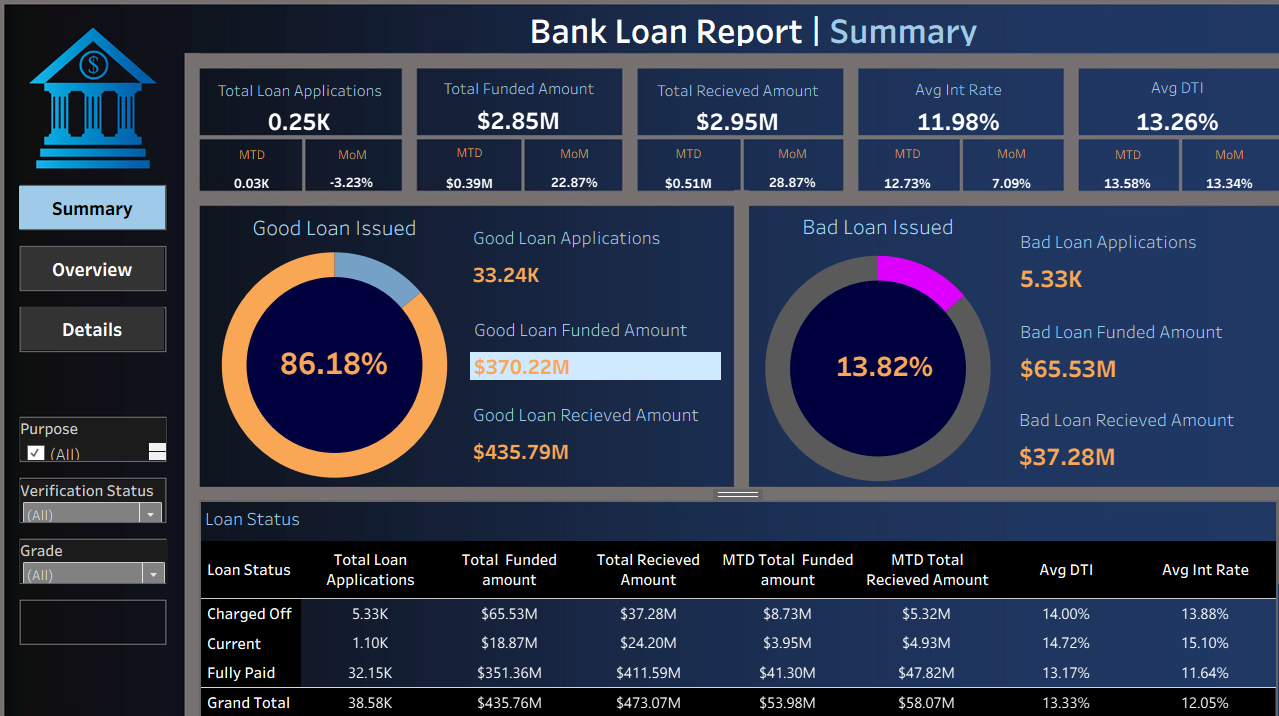

Layout of this report page (visuals, bound fields, positions):
{"tool":"tableau","page":{"name":"Summary","canvas":[1300,750],"ordinal":2},"visuals":[{"type":"image","param":"C:/Users/vaish/Downloads/details.jpg","box":[1,1,1295,740]},{"type":"text","box":[531,23,457,32]},{"type":"worksheet","title":"Avg DTI","mark":"Automatic","box":[1089,82,187,61]},{"type":"worksheet","title":"Total Funded Amount","mark":"Automatic","box":[426,83,196,56]},{"type":"worksheet","title":"Avg Int Rate","mark":"Automatic","box":[867,84,193,57]},{"type":"worksheet","title":"Total Loan Applications","mark":"Automatic","box":[209,85,192,55]},{"type":"worksheet","title":"Total Recieved Amount","mark":"Automatic","box":[646,85,194,54]},{"type":"worksheet","title":"MTD Total Funded Amount","mark":"Automatic","box":[424,149,101,55]},{"type":"worksheet","title":"MoM Total Funded Amount","mark":"Automatic","box":[532,150,95,50]},{"type":"worksheet","title":"MTD Total Recieved Amount","mark":"Automatic","box":[645,150,97,53]},{"type":"worksheet","title":"MoM Total Recieved Amount","mark":"Automatic","box":[750,150,95,50]},{"type":"worksheet","title":"MTD Avg Int Rate","mark":"Automatic","box":[864,150,97,53]},{"type":"worksheet","title":"MoM Avg Int Rate","mark":"Automatic","box":[968,150,97,53]},{"type":"worksheet","title":"MTD Total Loan Applications","mark":"Automatic","box":[211,151,92,47]},{"type":"worksheet","title":"MoM Total Loan Applications","mark":"Automatic","box":[313,151,89,49]},{"type":"worksheet","title":"MTD Avg DTI","mark":"Automatic","box":[1085,151,96,51]},{"type":"worksheet","title":"MoM Avg DTI","mark":"Automatic","box":[1187,151,95,51]},{"type":"dashboard-object","box":[24,195,146,43]},{"type":"worksheet","title":"Bad Loan Issued (2)","mark":"Pie","rows":["Calculation_0896421964423200","Calculation_0896421964234783"],"box":[745,217,276,278]},{"type":"worksheet","title":"Good Loan Issued","mark":"Pie","rows":["Calculation_0896421964423200","Calculation_0896421964234783"],"box":[209,218,261,269]},{"type":"worksheet","title":"Good Loan Applications","mark":"Automatic","box":[470,226,260,75]},{"type":"worksheet","title":"Bad Loan Applications ","mark":"Automatic","box":[1017,230,260,75]},{"type":"dashboard-object","box":[26,256,143,43]},{"type":"dashboard-object","box":[26,316,143,43]},{"type":"worksheet","title":"Good Loan Funded Amount","mark":"Automatic","box":[471,318,260,75]},{"type":"worksheet","title":"Bad Loan Funded Amount ","mark":"Automatic","box":[1017,320,260,75]},{"type":"worksheet","title":"Good Loan %","mark":"Automatic","box":[270,321,139,101]},{"type":"worksheet","title":"Bad Loan %","mark":"Automatic","box":[815,328,149,93]},{"type":"worksheet","title":"Good Loan Recieved Amount","mark":"Automatic","box":[470,403,260,75]},{"type":"worksheet","title":"Bad Loan Recieved Amount","mark":"Automatic","box":[1016,408,260,75]},{"type":"filter","title":"Good Loan Issued","param":"[federated.0fep2cb1dnu4fs19yudhn12il3j9].[none:purpose:nk]","box":[25,427,146,42]},{"type":"filter","title":"Good Loan Issued","param":"[federated.0fep2cb1dnu4fs19yudhn12il3j9].[none:verification_status:nk]","box":[25,489,145,42]},{"type":"worksheet","title":"Loan Status","mark":"Automatic","rows":["loan_status"],"box":[206,511,1075,216]},{"type":"filter","title":"Good Loan Issued","param":"[federated.0fep2cb1dnu4fs19yudhn12il3j9].[none:grade:nk]","box":[25,549,148,43]}]}

Visuals, with their boxes on the page's 1300x750 design canvas (x1, y1, x2, y2). These are canvas units, not pixel positions in the 1279x716 screenshot, which may show the page scaled, cropped or inside an application window:
image: bbox=(1, 1, 1296, 741)
text: bbox=(531, 23, 988, 55)
"Avg DTI" worksheet: bbox=(1089, 82, 1276, 143)
"Total Funded Amount" worksheet: bbox=(426, 83, 622, 139)
"Avg Int Rate" worksheet: bbox=(867, 84, 1060, 141)
"Total Loan Applications" worksheet: bbox=(209, 85, 401, 140)
"Total Recieved Amount" worksheet: bbox=(646, 85, 840, 139)
"MTD Total Funded Amount" worksheet: bbox=(424, 149, 525, 204)
"MoM Total Funded Amount" worksheet: bbox=(532, 150, 627, 200)
"MTD Total Recieved Amount" worksheet: bbox=(645, 150, 742, 203)
"MoM Total Recieved Amount" worksheet: bbox=(750, 150, 845, 200)
"MTD Avg Int Rate" worksheet: bbox=(864, 150, 961, 203)
"MoM Avg Int Rate" worksheet: bbox=(968, 150, 1065, 203)
"MTD Total Loan Applications" worksheet: bbox=(211, 151, 303, 198)
"MoM Total Loan Applications" worksheet: bbox=(313, 151, 402, 200)
"MTD Avg DTI" worksheet: bbox=(1085, 151, 1181, 202)
"MoM Avg DTI" worksheet: bbox=(1187, 151, 1282, 202)
dashboard-object: bbox=(24, 195, 170, 238)
"Bad Loan Issued (2)" worksheet (Pie marks): bbox=(745, 217, 1021, 495)
"Good Loan Issued" worksheet (Pie marks): bbox=(209, 218, 470, 487)
"Good Loan Applications" worksheet: bbox=(470, 226, 730, 301)
"Bad Loan Applications " worksheet: bbox=(1017, 230, 1277, 305)
dashboard-object: bbox=(26, 256, 169, 299)
dashboard-object: bbox=(26, 316, 169, 359)
"Good Loan Funded Amount" worksheet: bbox=(471, 318, 731, 393)
"Bad Loan Funded Amount " worksheet: bbox=(1017, 320, 1277, 395)
"Good Loan %" worksheet: bbox=(270, 321, 409, 422)
"Bad Loan %" worksheet: bbox=(815, 328, 964, 421)
"Good Loan Recieved Amount" worksheet: bbox=(470, 403, 730, 478)
"Bad Loan Recieved Amount" worksheet: bbox=(1016, 408, 1276, 483)
"Good Loan Issued" filter: bbox=(25, 427, 171, 469)
"Good Loan Issued" filter: bbox=(25, 489, 170, 531)
"Loan Status" worksheet: bbox=(206, 511, 1281, 727)
"Good Loan Issued" filter: bbox=(25, 549, 173, 592)
